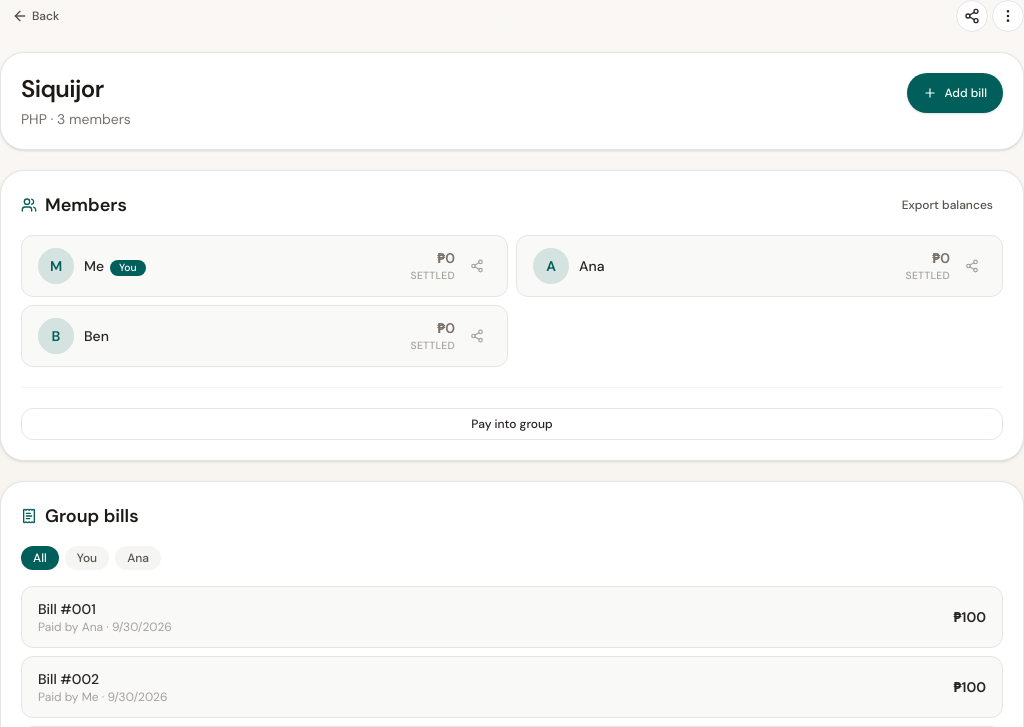
Test: GroupDetailPage bills, server-paged › C24: a filtered first page with matching 0 says 'No bills paid by Ana', not the empty-group text
Click the button "Ana": coordinates (138, 558) [115,546,161,570]
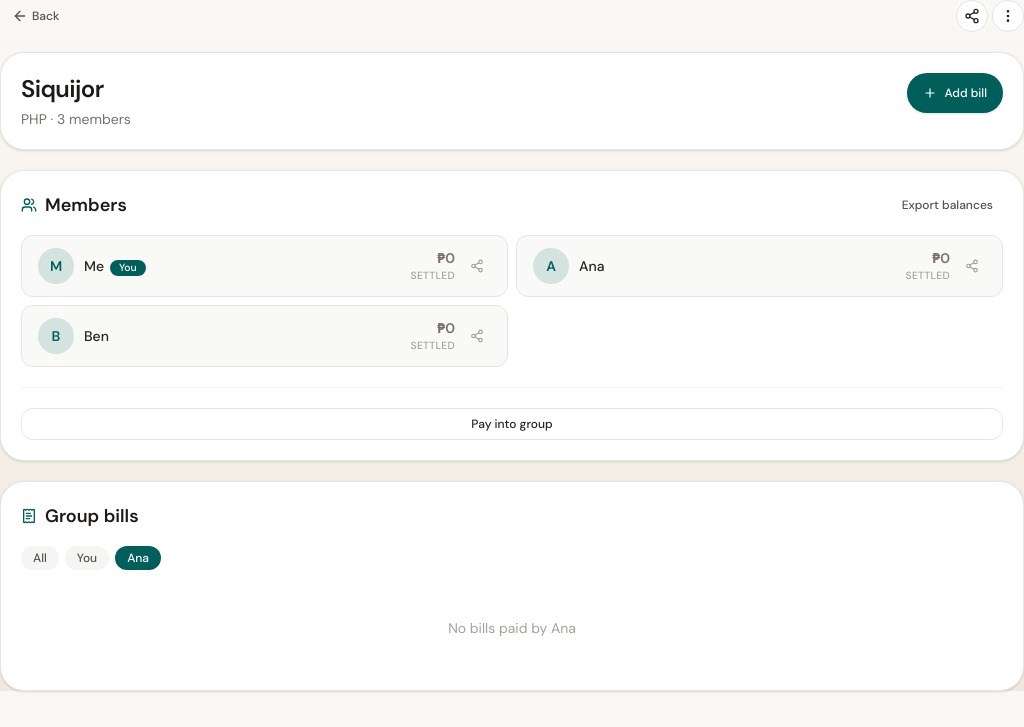
Now the text "No bills paid by Ana" is shown, box [448,618,576,638]
